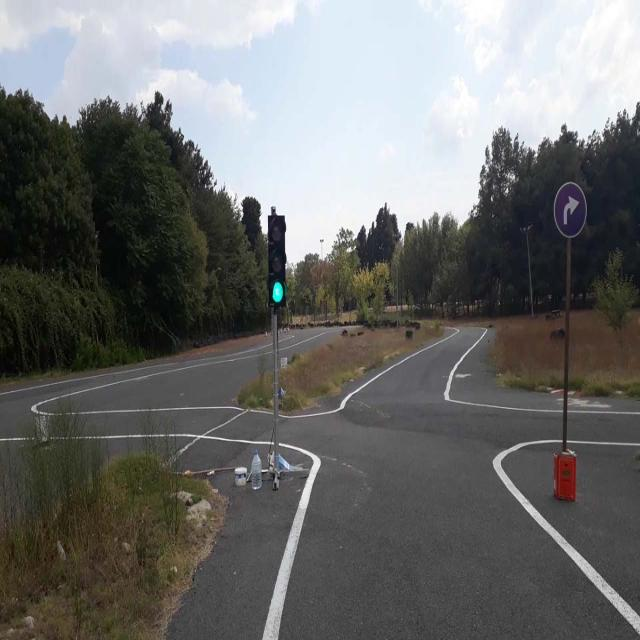sag: (553, 181, 587, 235)
yesil: (268, 210, 286, 306)
